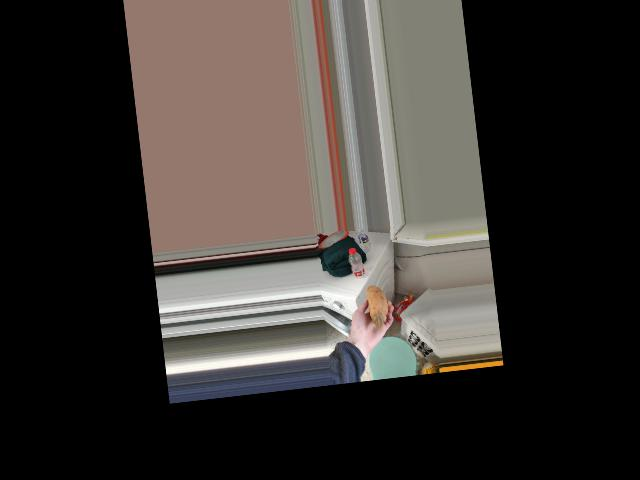sweet_potato: (364, 274, 388, 324)
